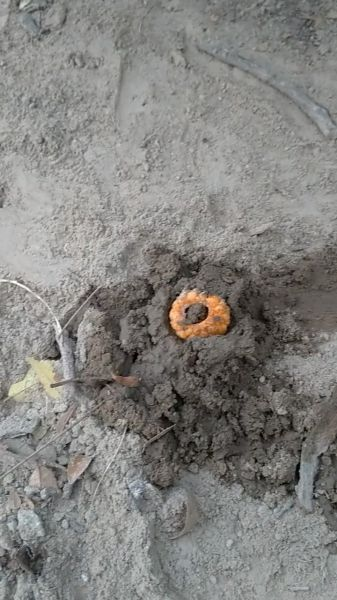eggs: (165, 288, 237, 343)
